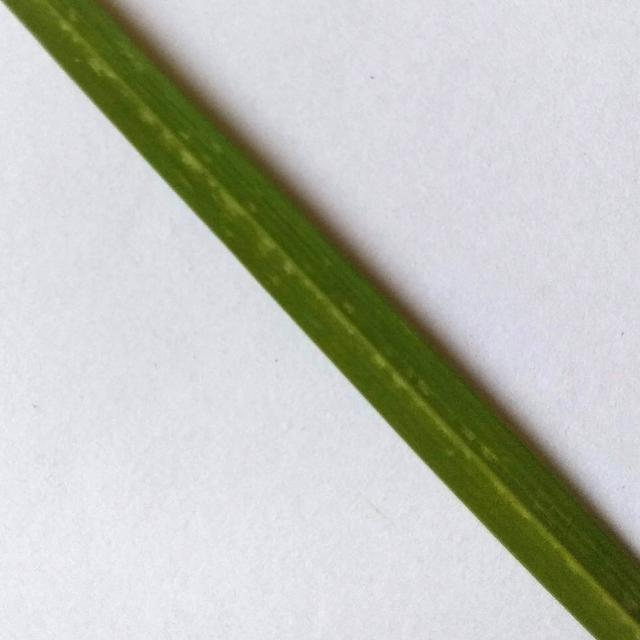Rice_Healthy: (4, 0, 640, 640)
